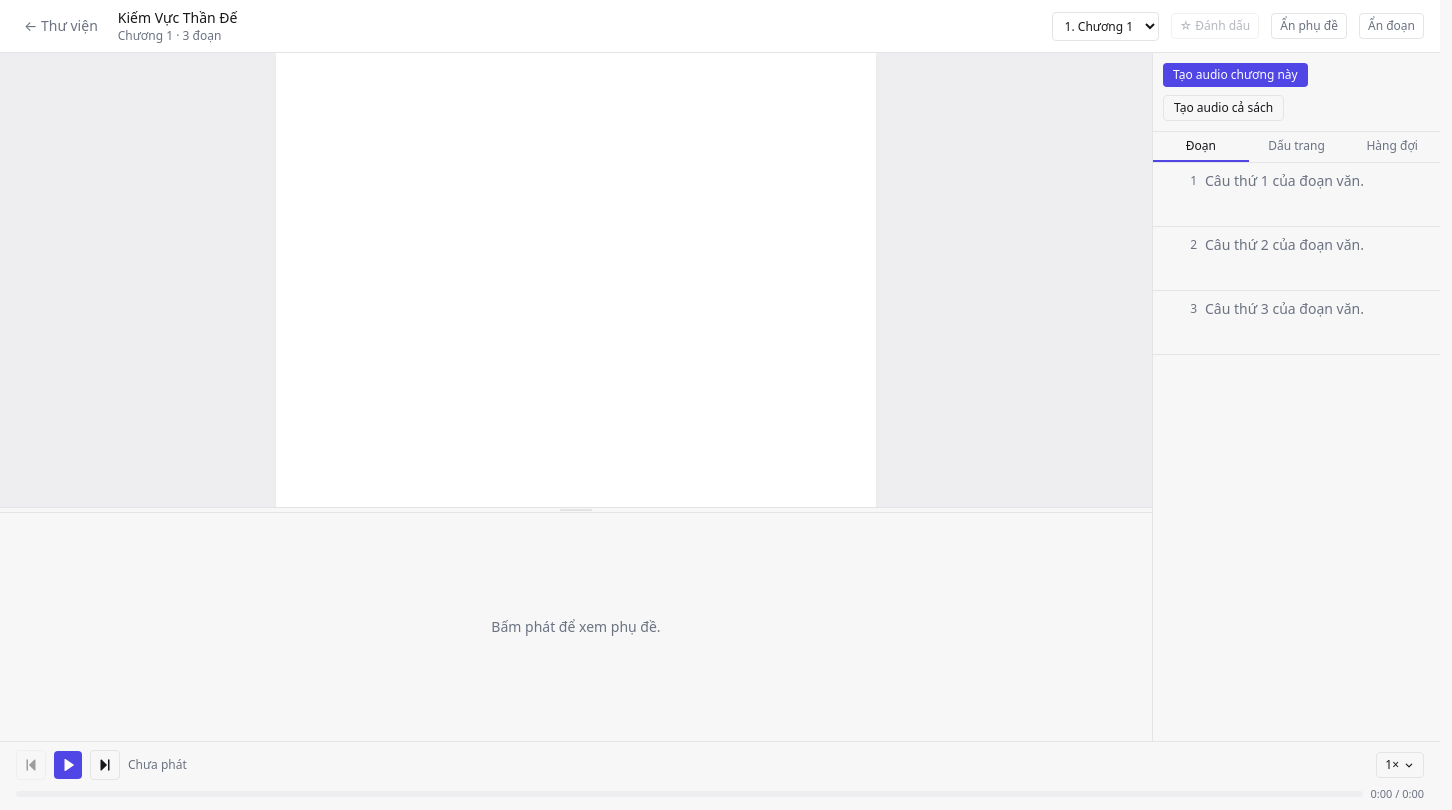
panel phải: ba tab (P5.4) › chuyển sang tab Dấu trang
Click the tab with test id "panel-tab-bookmarks": {"x": 1297, "y": 147} x1=1249 y1=132 x2=1344 y2=162
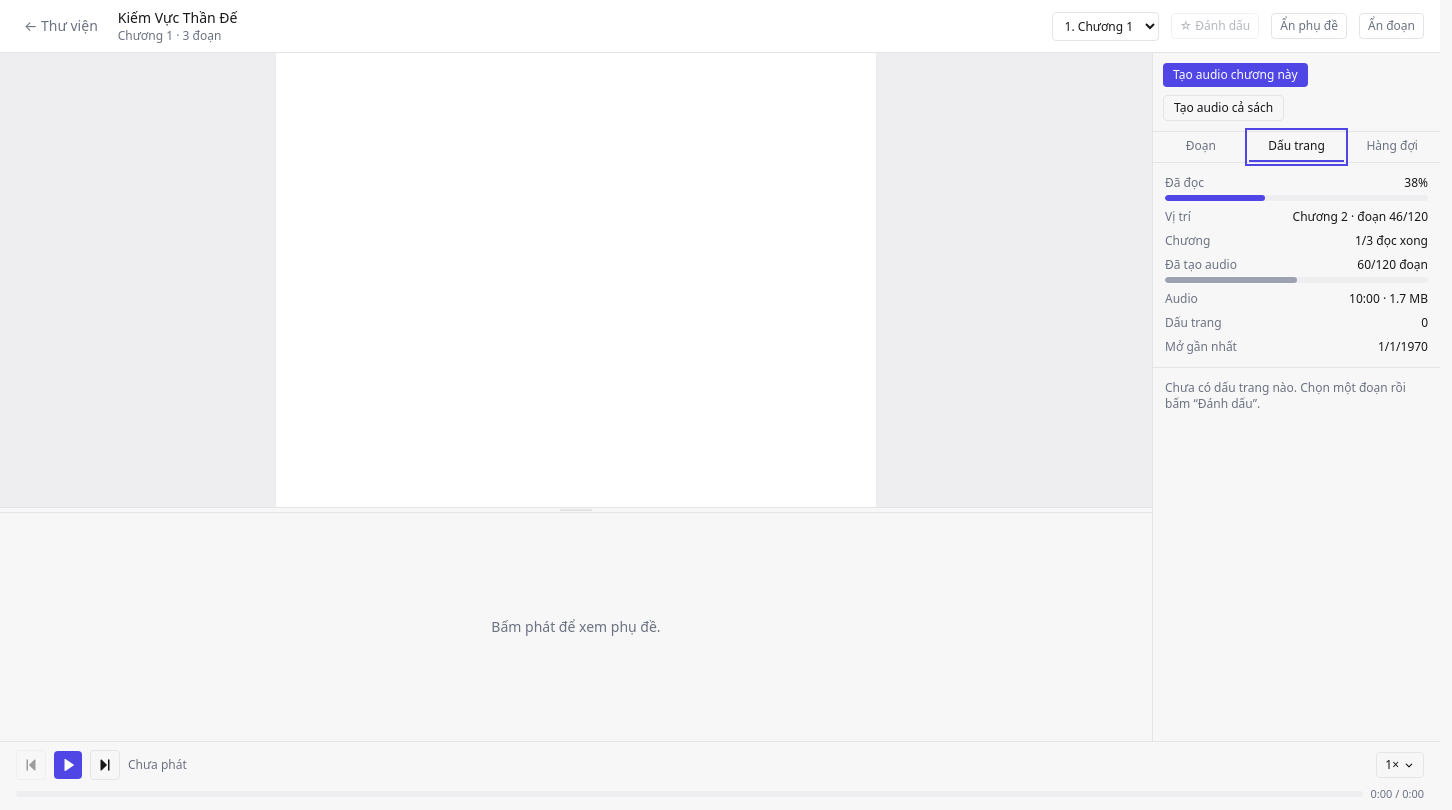
Now the text "Chưa có dấu trang nào. Chọn một đoạn rồi bấm “Đánh dấu”." is shown, box x1=1165 y1=379 x2=1406 y2=412
Now the element with test id "segment-scroll" is gone
